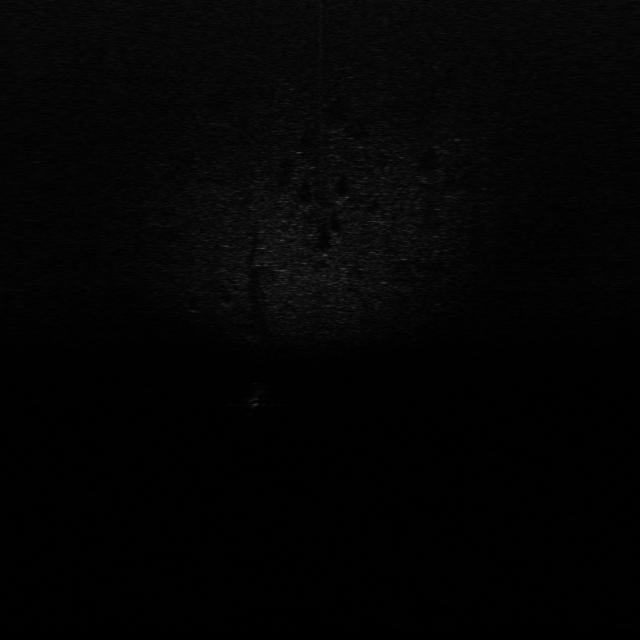human body: (238, 378, 276, 418)
